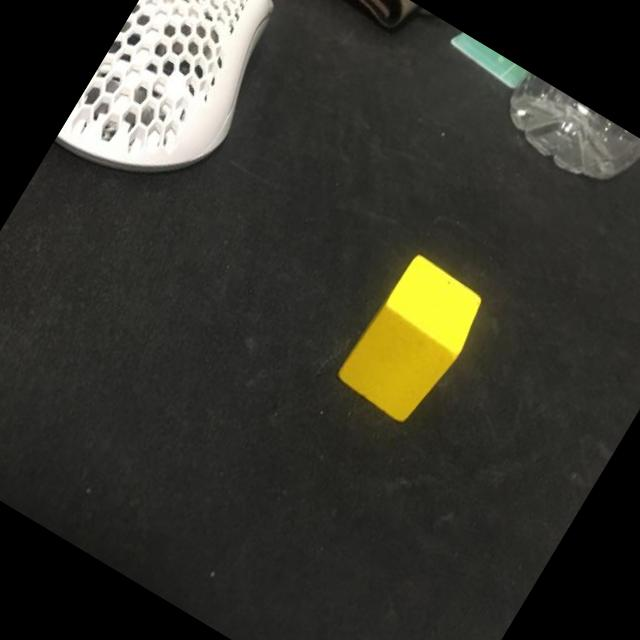yellow: (330, 248, 494, 433)
